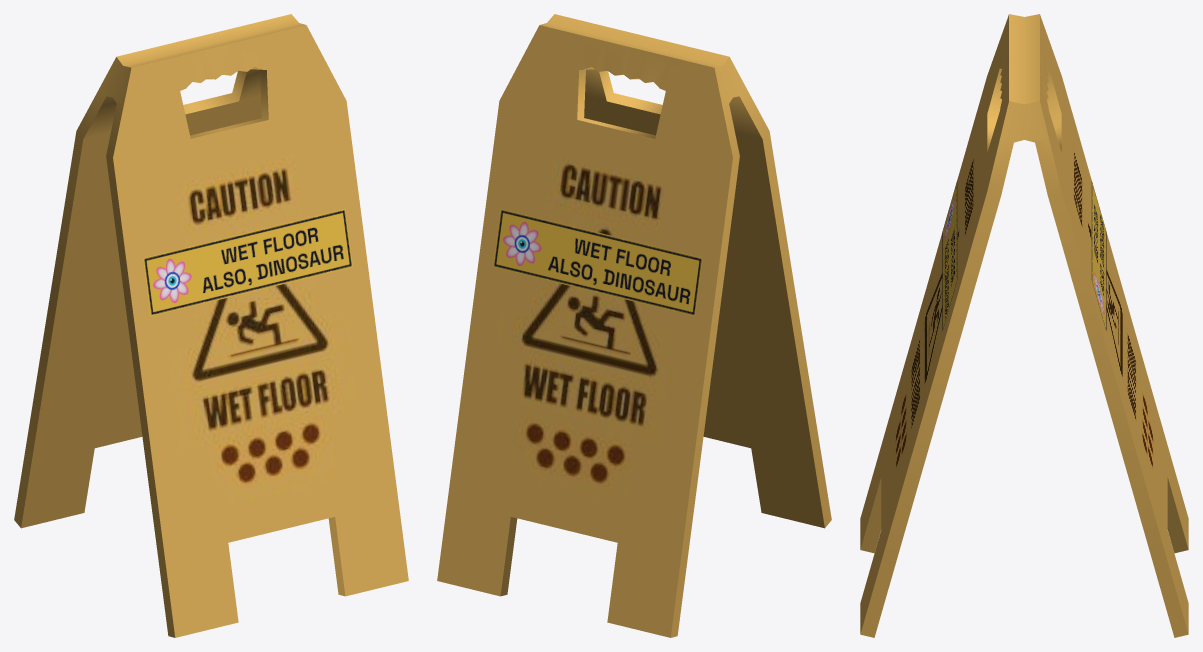
The model's file is nyb_natm_wet.glb.
The picture shows the model from 3 angles, left to right: view 1: azimuth 30°, elevation 25°; view 2: azimuth 150°, elevation 25°; view 3: azimuth 270°, elevation 25°; orthographic projection.
Parts seen in each view (by area): view 1: WetFloorSign_01, stk_lbl_8219bd865d.png; view 2: WetFloorSign_01, stk_lbl_8219bd865d.png.001; view 3: WetFloorSign_01, stk_lbl_8219bd865d.png, stk_lbl_8219bd865d.png.001.
Part boxes in pixels (<box>): WetFloorSign_01: <box>14,14,408,637</box>; stk_lbl_8219bd865d.png: <box>143,208,352,316</box>; WetFloorSign_01: <box>437,14,831,637</box>; stk_lbl_8219bd865d.png.001: <box>493,208,702,316</box>; WetFloorSign_01: <box>860,14,1188,637</box>; stk_lbl_8219bd865d.png: <box>942,179,957,331</box>; stk_lbl_8219bd865d.png.001: <box>1091,179,1106,331</box>.
Size of the model in its own units: 0.3001 by 0.6295 by 0.3585.
3 materials, 3 textured.
